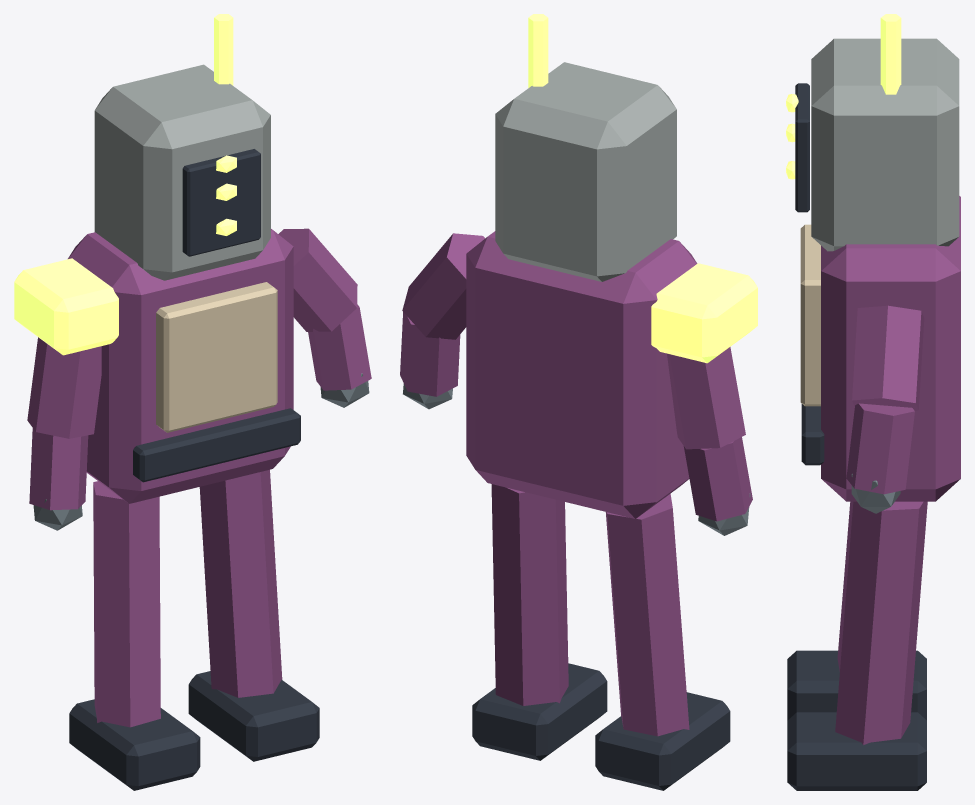
File: npcs_024_seed11.glb
3 renders of one model, left to right at view 1: azimuth 30°, elevation 25°; view 2: azimuth 150°, elevation 25°; view 3: azimuth 270°, elevation 25°, orthographic. The views are drawn at different scales.
Visible parts, largest first — view 1: npcs_024_seed11; view 2: npcs_024_seed11; view 3: npcs_024_seed11.
Part boxes in pixels (x1,y1,x2,y2): npcs_024_seed11: (14,14,371,790); npcs_024_seed11: (400,14,757,790); npcs_024_seed11: (786,14,960,790).
Size of the model in its own units: 1.09 by 2.21 by 0.4662.
